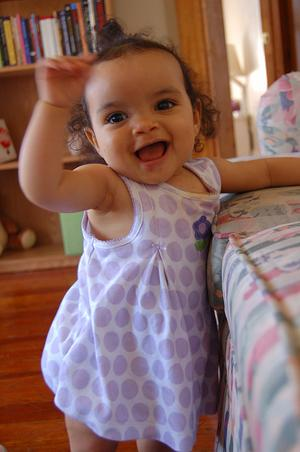person: (17, 30, 300, 452)
